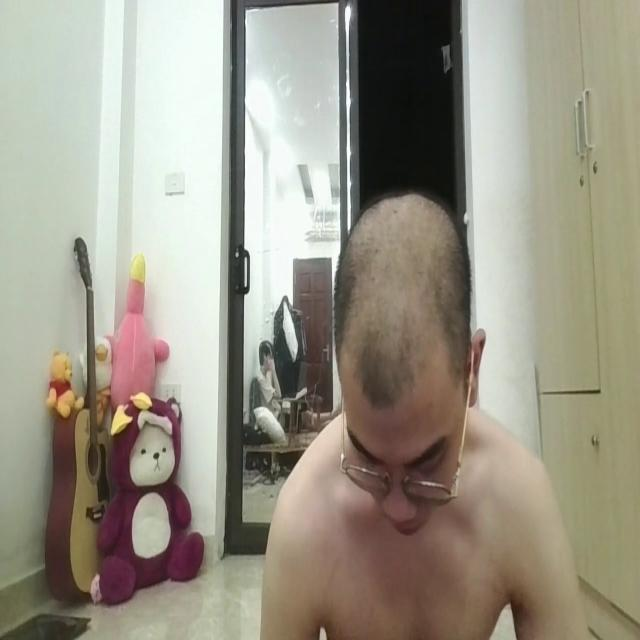extra_person: (251, 324, 309, 428)
student: (263, 179, 600, 640)
